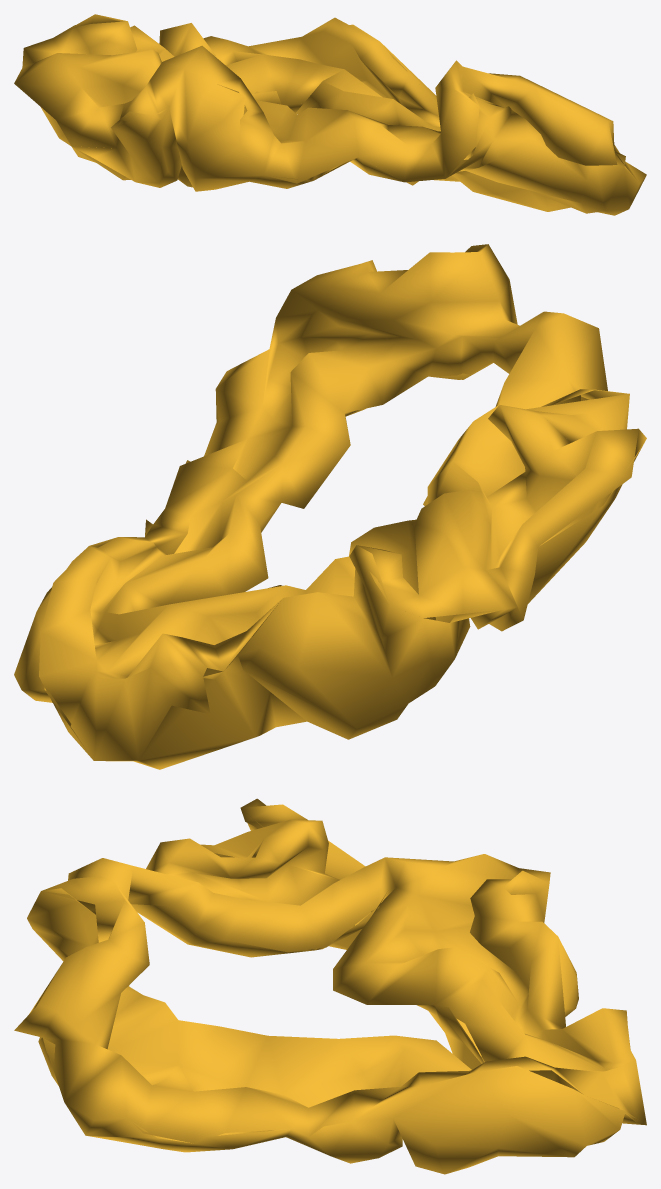
File: nervoso-orbital-gyri-r.glb
3 renders of one model, top to bottom at view 1: azimuth 30°, elevation 25°; view 2: azimuth 150°, elevation 25°; view 3: azimuth 270°, elevation 25°, orthographic. The views are drawn at different scales.
Visible parts, largest first — view 1: Orbital gyri.r; view 2: Orbital gyri.r; view 3: Orbital gyri.r.
Part boxes in pixels (left/top/right/bottom): Orbital gyri.r: left=14, top=14, right=646, bottom=215; Orbital gyri.r: left=14, top=244, right=646, bottom=769; Orbital gyri.r: left=14, top=798, right=646, bottom=1174.
Bounding box in the file's own units: 0.0487 × 0.0272 × 0.0614.
